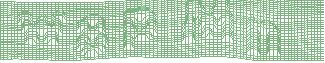8: (75, 14, 108, 57)
M: (179, 1, 235, 44)
n: (244, 16, 282, 58)
p: (122, 6, 158, 53)
w: (16, 8, 68, 48)
